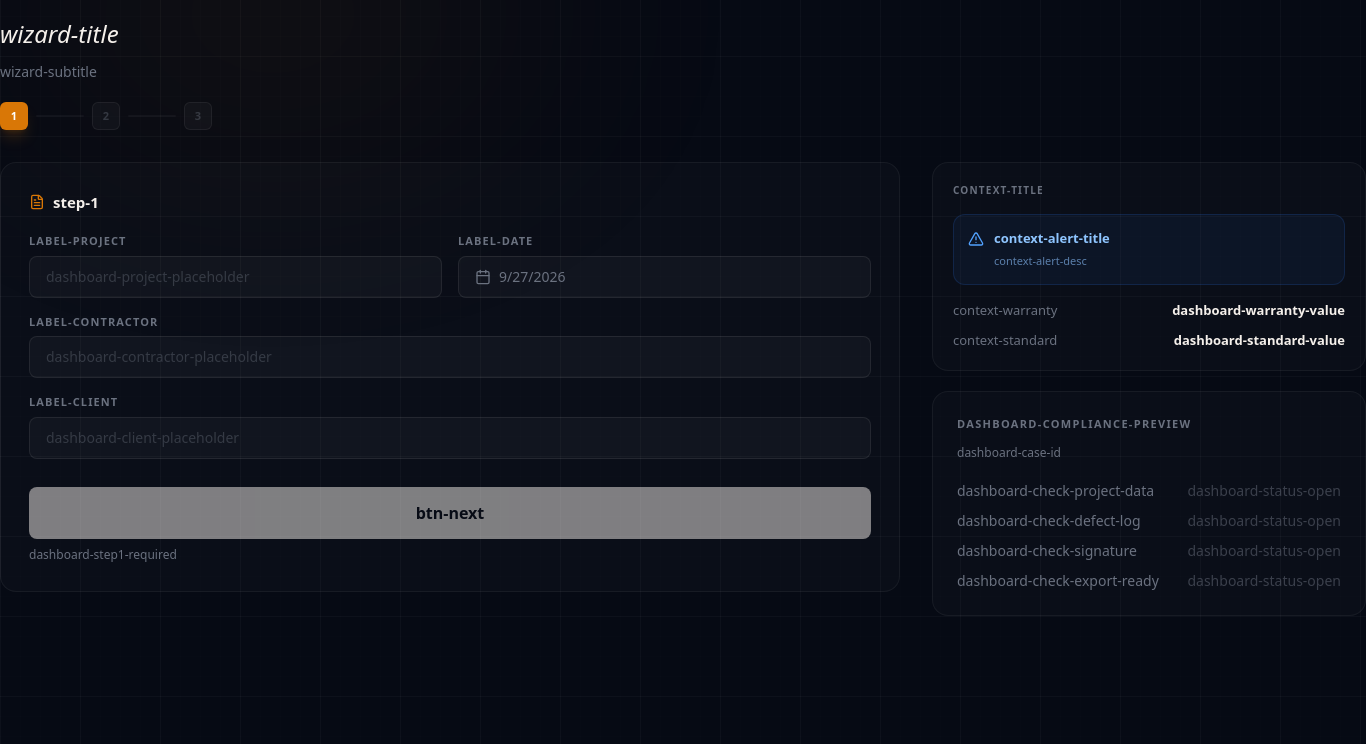
dashboard linked-case loading retry › shows a protocol final-review summary before standalone finalization
In the field with placeholder "dashboard-project-placeholder": (236,277) top-left (29, 256), bottom-right (442, 298), type "Alpine Tower"
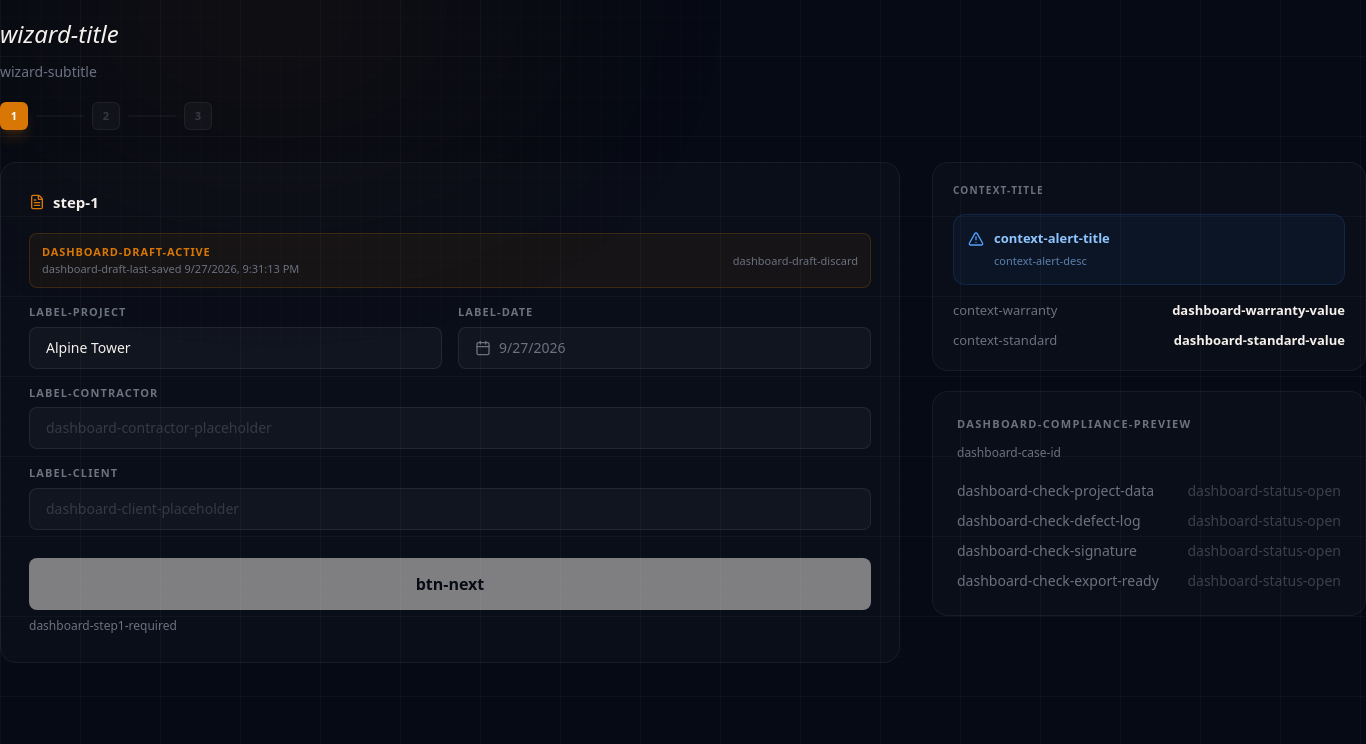
In the field with placeholder "dashboard-contractor-placeholder": (450,428) top-left (29, 407), bottom-right (871, 449), type "Builder AG"
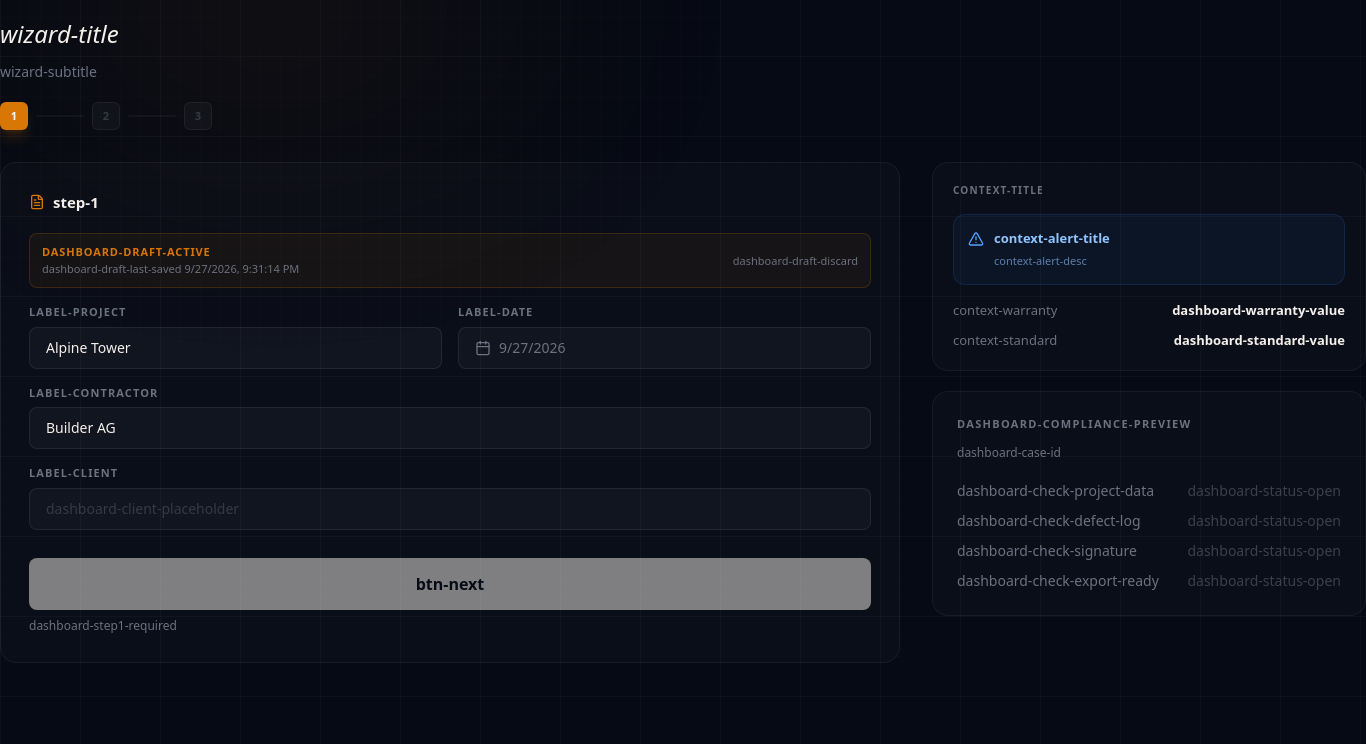
In the field with placeholder "dashboard-client-placeholder": (450,509) top-left (29, 488), bottom-right (871, 530), type "Owner GmbH"
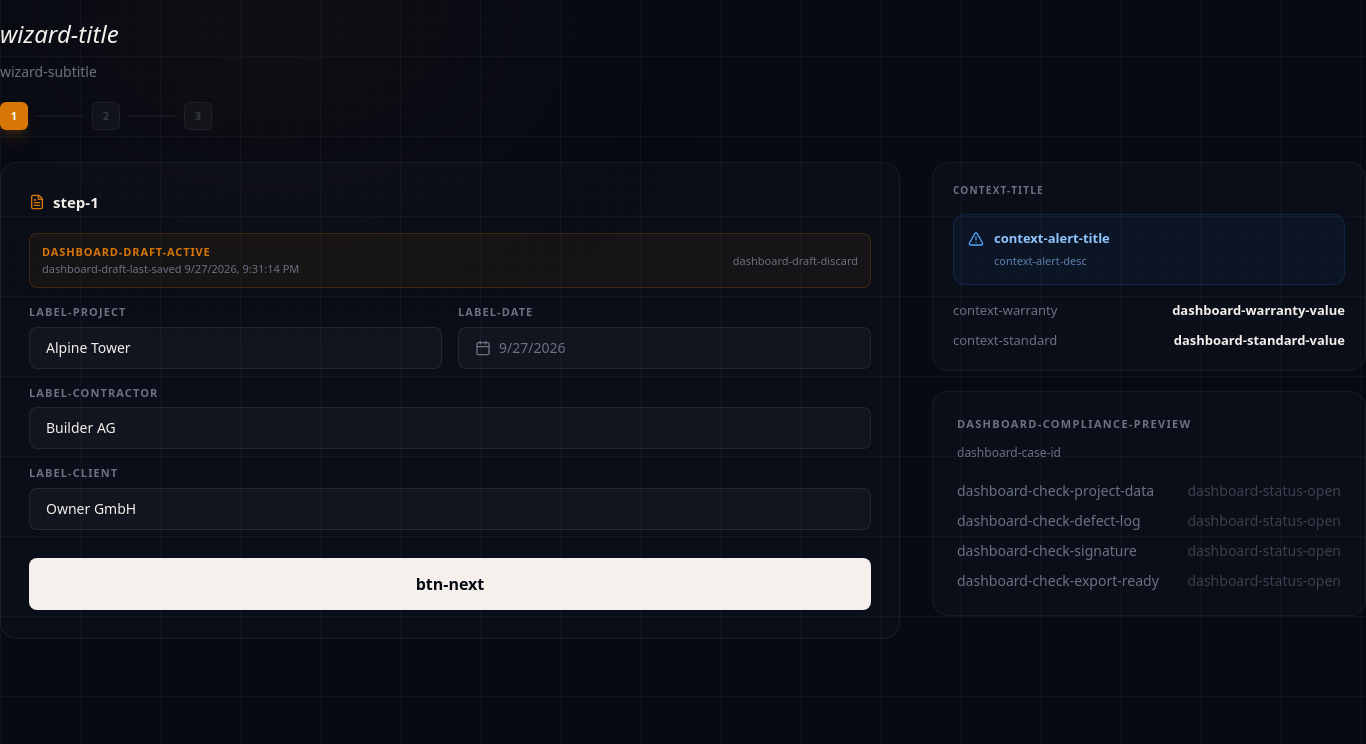
Click the button "btn-next": (450,584) top-left (29, 558), bottom-right (871, 610)
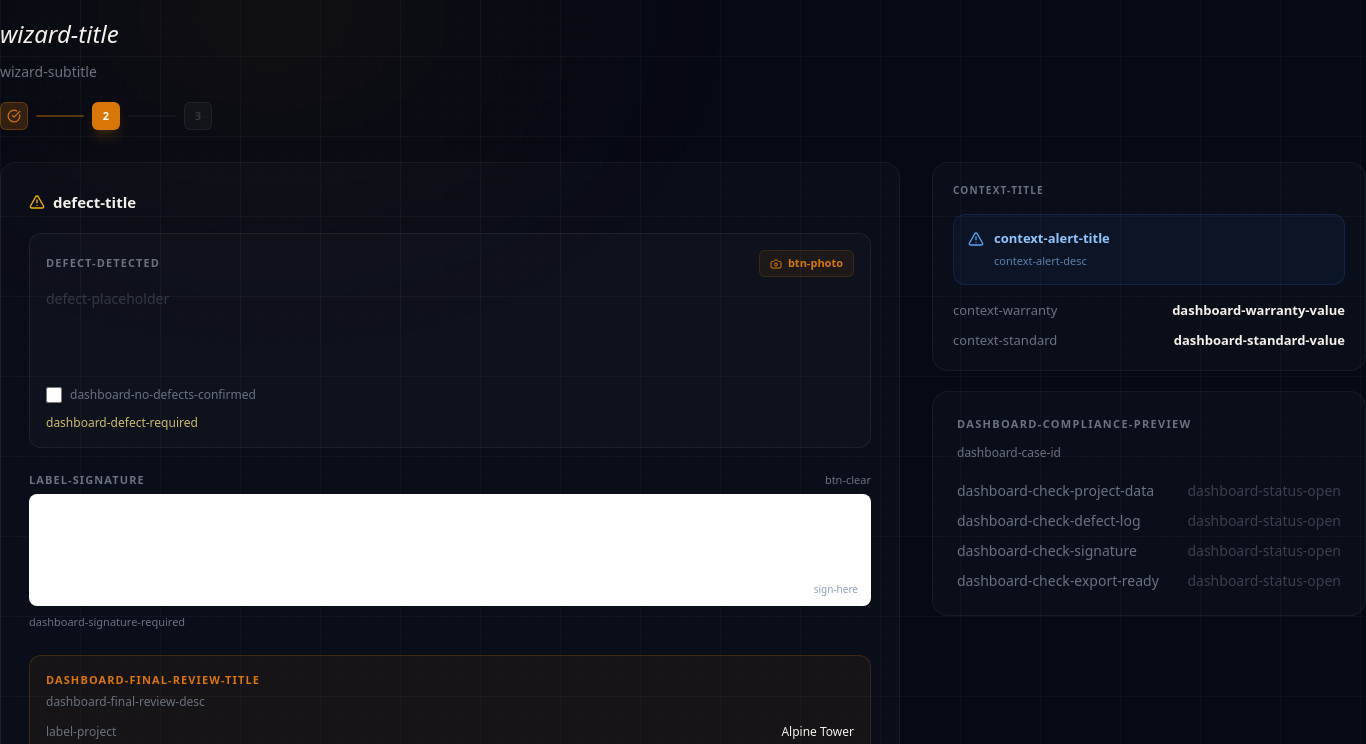
Check: the text "dashboard-final-review-title" is shown, box top-left (46, 672), bottom-right (260, 687)
Click the checkbox: (54,395) top-left (46, 387), bottom-right (62, 403)
(page scrolled)
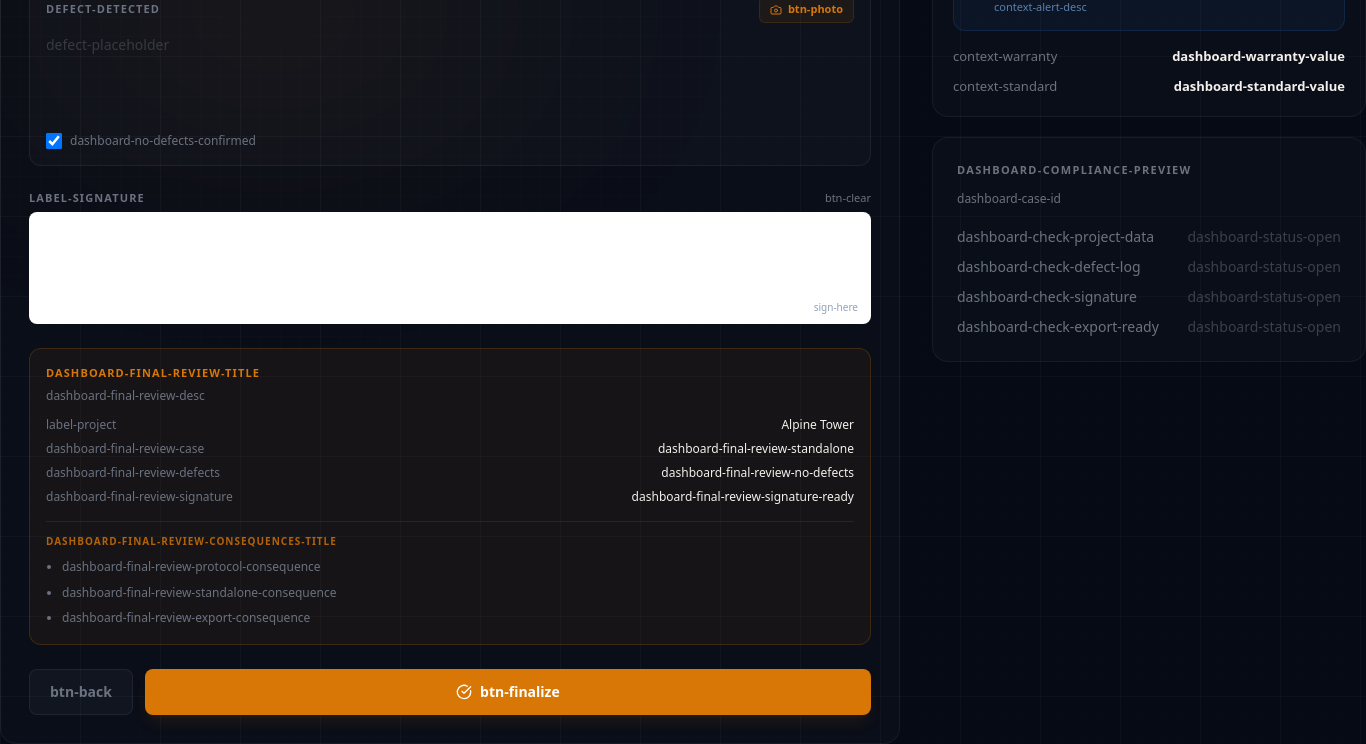
Check: the text "dashboard-final-review-no-defects" is shown, box top-left (661, 465), bottom-right (854, 481)
Check: the text "dashboard-final-review-signature-ready" is shown, box top-left (632, 489), bottom-right (854, 505)
